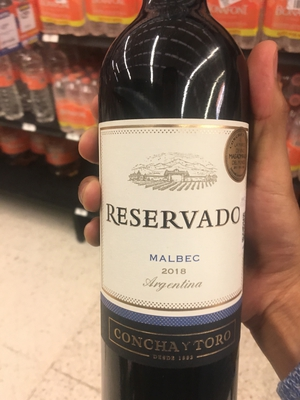reservado malbec: (92, 14, 253, 400)
